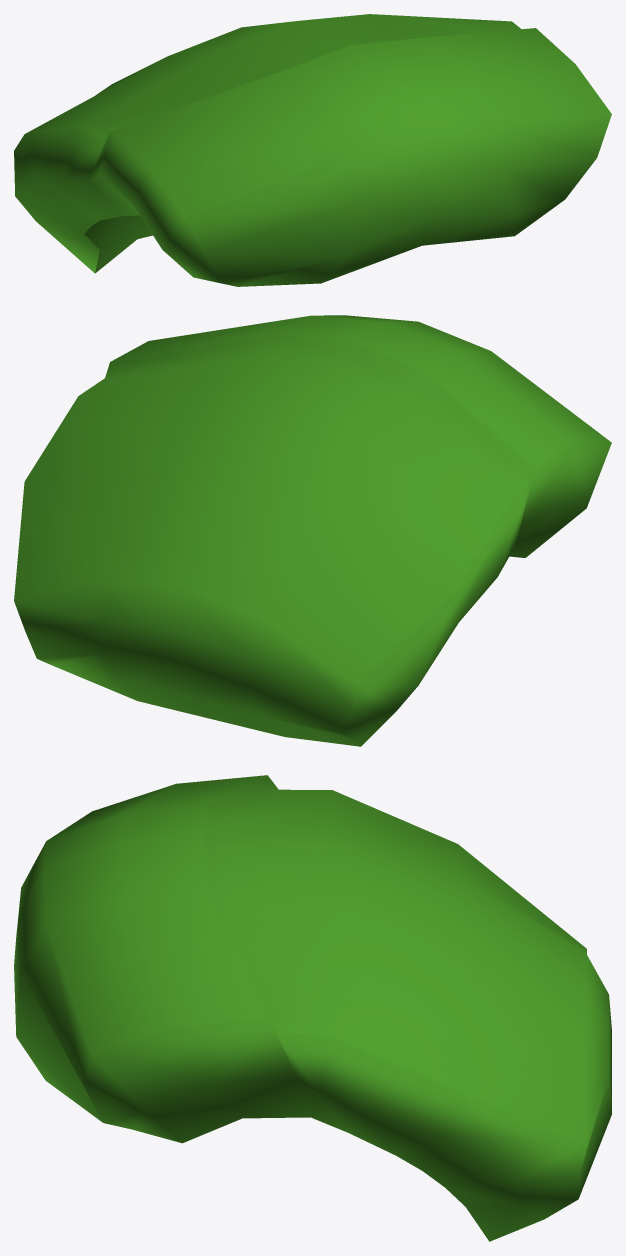
The model's file is imposterSkin12_hair.fbx.
3 views of the same model, one above another, from view 1: azimuth 30°, elevation 25°; view 2: azimuth 150°, elevation 25°; view 3: azimuth 270°, elevation 25° (orthographic). The views are drawn at different scales.
Parts seen in each view (by area): view 1: imposterSkin12_hair_geo; view 2: imposterSkin12_hair_geo; view 3: imposterSkin12_hair_geo.
Part boxes in pixels (x1,y1,x2,y2): imposterSkin12_hair_geo: (14, 14, 611, 286); imposterSkin12_hair_geo: (14, 315, 611, 746); imposterSkin12_hair_geo: (14, 775, 611, 1241).
Size of the model in its own units: 2.17 by 1.36 by 2.21.
Materials: 1 (1 with a texture image).
